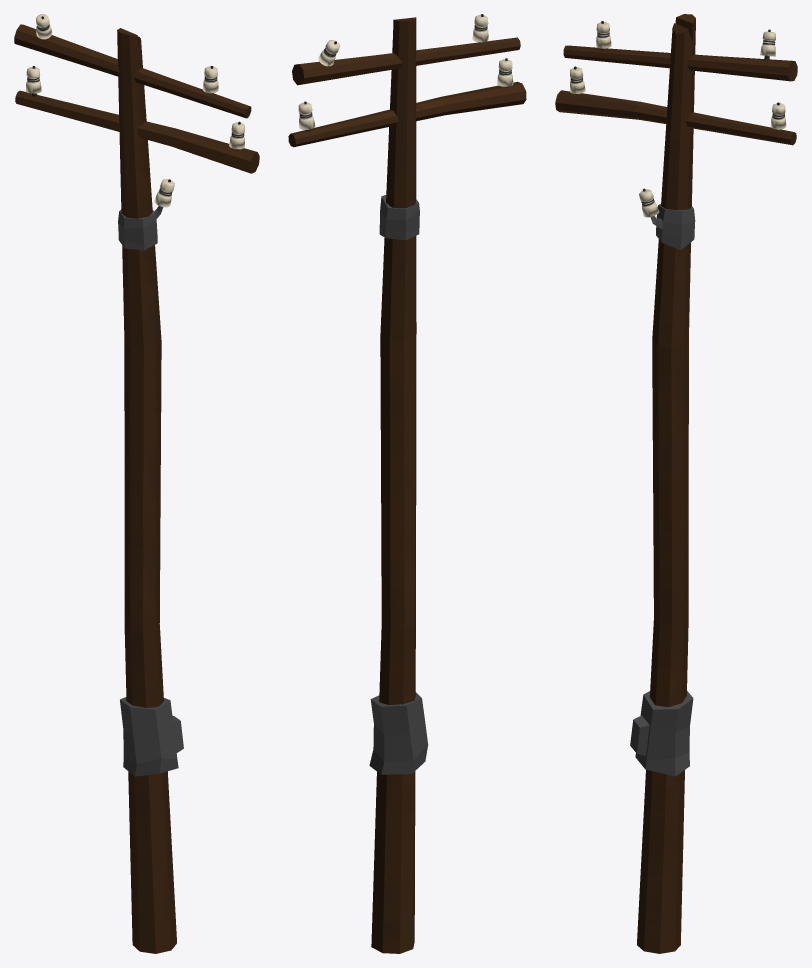
The model's file is electric-stolb.fbx.
3 renders of one model, left to right at view 1: azimuth 90°, elevation 25°; view 2: azimuth 150°, elevation 25°; view 3: azimuth 270°, elevation 25°, orthographic. The views are drawn at different scales.
Parts seen in each view (by area): view 1: Cylinder.003; view 2: Cylinder.003; view 3: Cylinder.003.
Boxes of the visible parts, x1,y1,x2,y2 form: Cylinder.003: [14, 14, 259, 953]; Cylinder.003: [288, 14, 526, 953]; Cylinder.003: [555, 14, 797, 953].
Size of the model in its own units: 38.76 by 287 by 68.88.
